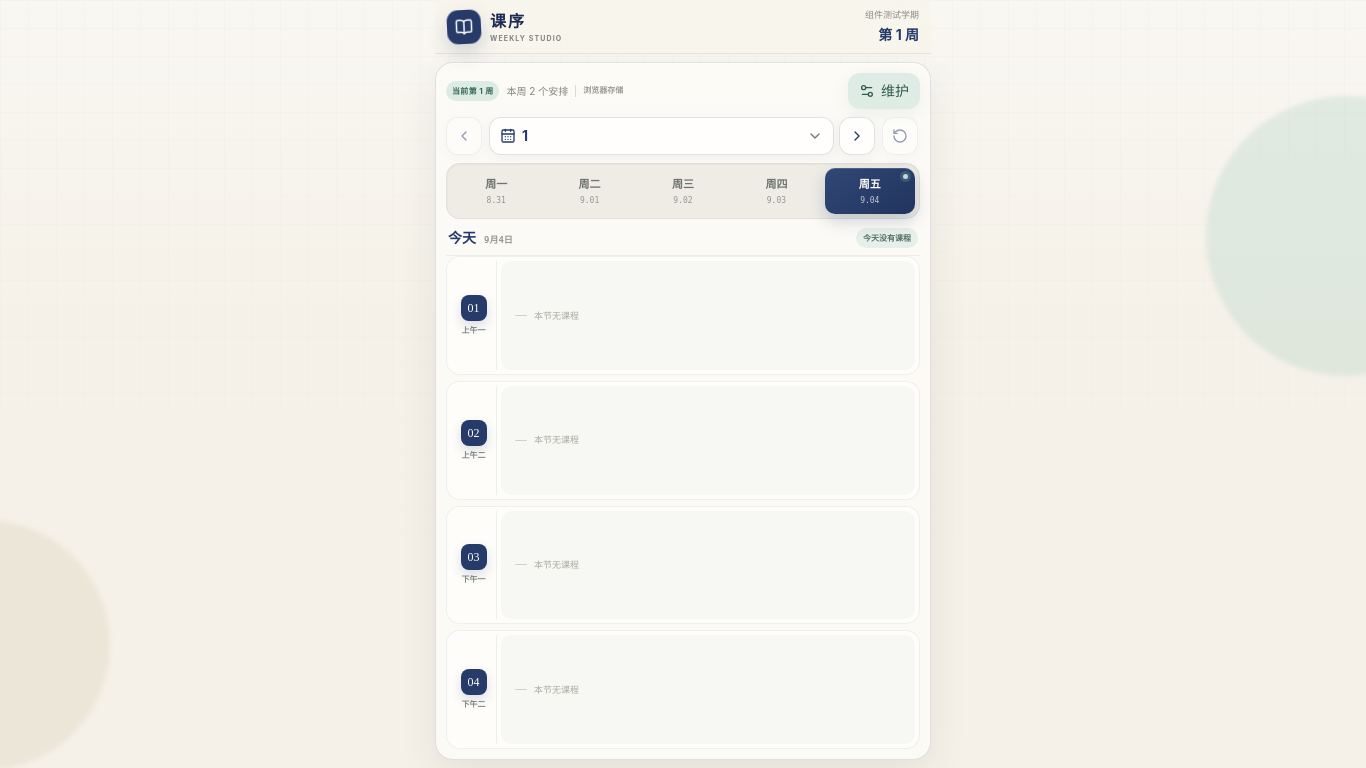
course schedule page › 同一节次的多门课程都会展示
The image size is (1366, 768).
Click the tab "周三 9.02": coordinates (683, 191) [638,168,728,214]
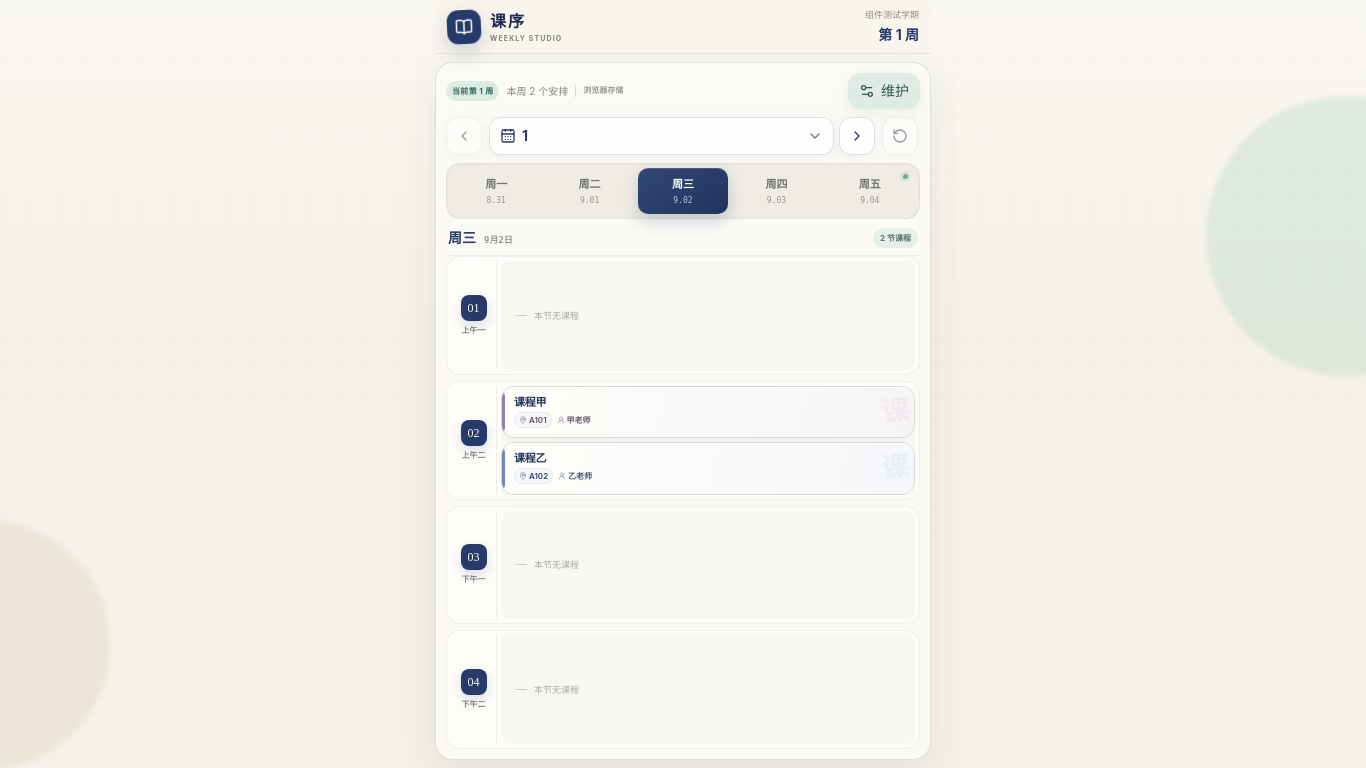
Expected: the heading "课程甲" is shown, [514,395,546,409]
Expected: the heading "课程乙" is shown, [514,451,546,465]
